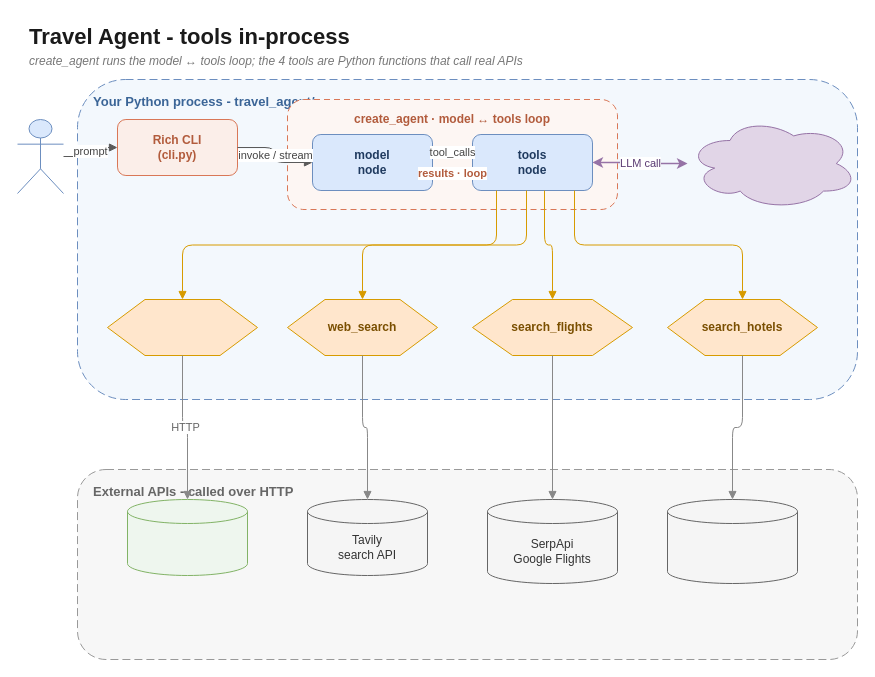
Image size: 875x677. Some labels were removed from this diagram. Here are the shapes that lost their labels. From the top down, the centre of each, then its label:
At point 40,156: "User".
At point 772,163: "OpenAI gpt-4o-mini".
At point 182,327: "get_weather".
At point 187,537: "Open-Meteo (free, no key)".
At point 732,541: "SerpApi Google Hotels".
